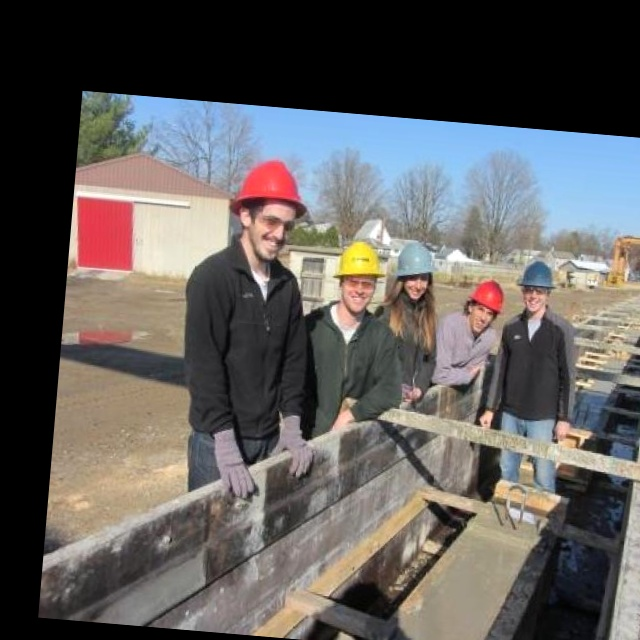Con_Casco: (333, 240, 387, 308)
